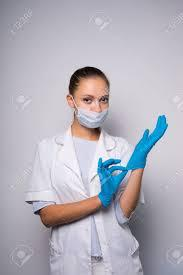Wore Mask Incorrectly: (64, 69, 124, 138)
